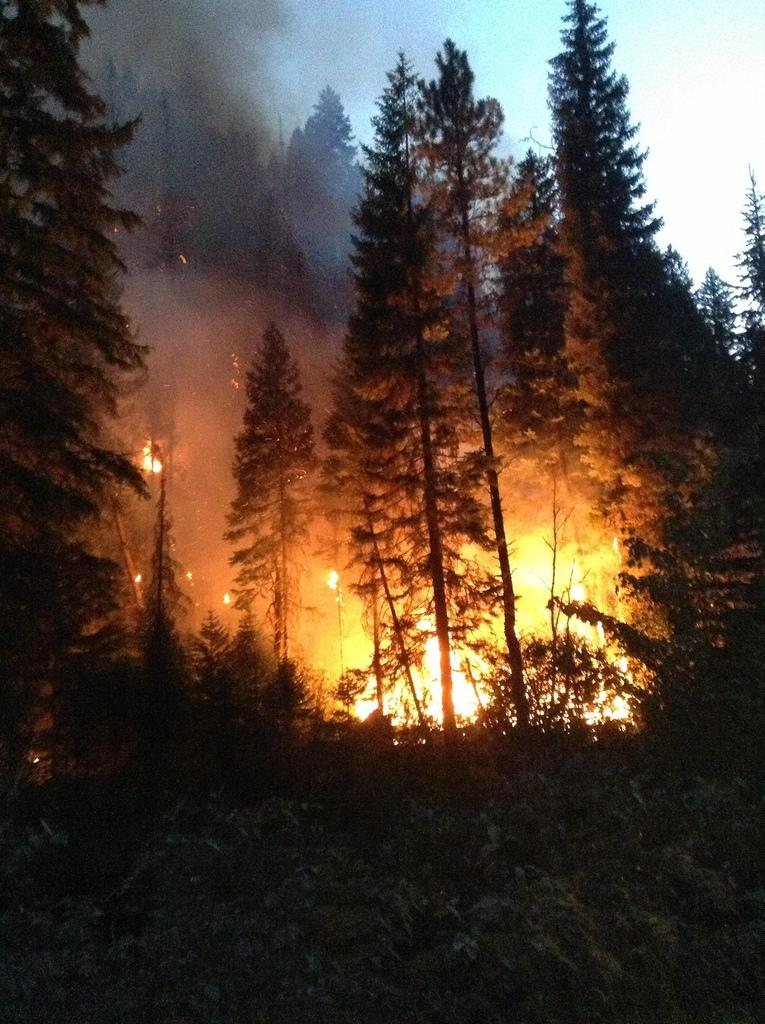fire: (285, 565, 375, 678), (515, 525, 600, 640), (388, 655, 478, 718)
smoke: (150, 275, 218, 422)
